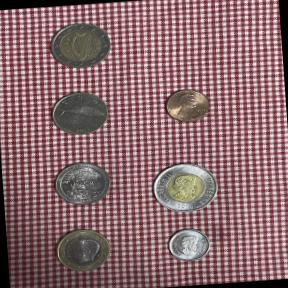coin: (39, 13, 124, 78), (43, 83, 119, 145), (46, 220, 122, 281), (46, 154, 122, 213), (147, 158, 224, 216), (160, 84, 216, 128), (162, 224, 216, 266)
